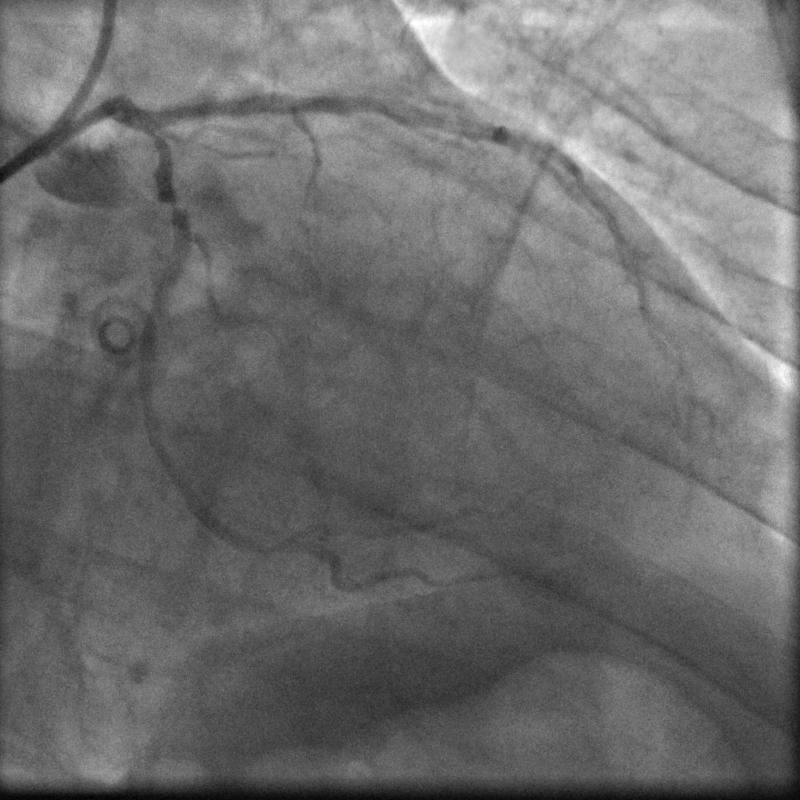Stenosis: (168, 198, 178, 208)
